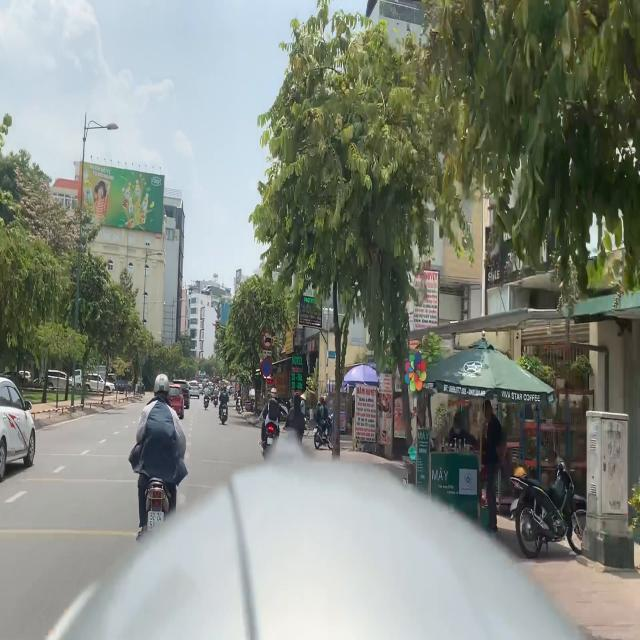Cam con lai: (261, 328, 273, 351)
Cam do: (261, 357, 272, 378)
